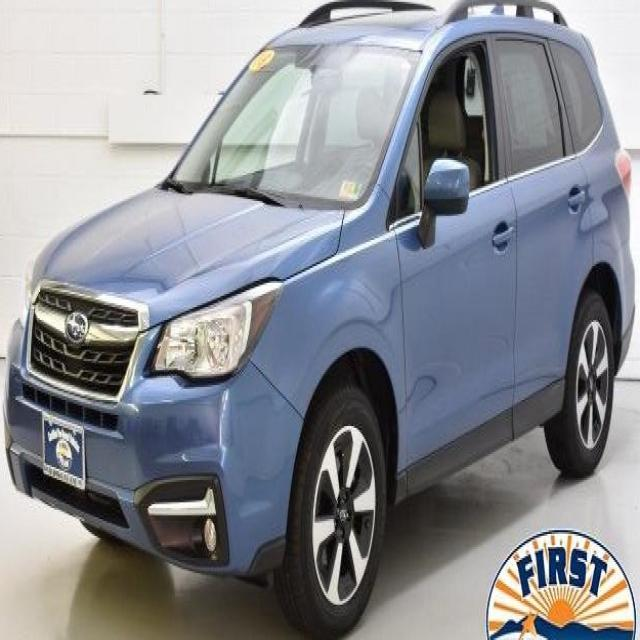blue: (12, 16, 640, 640)
